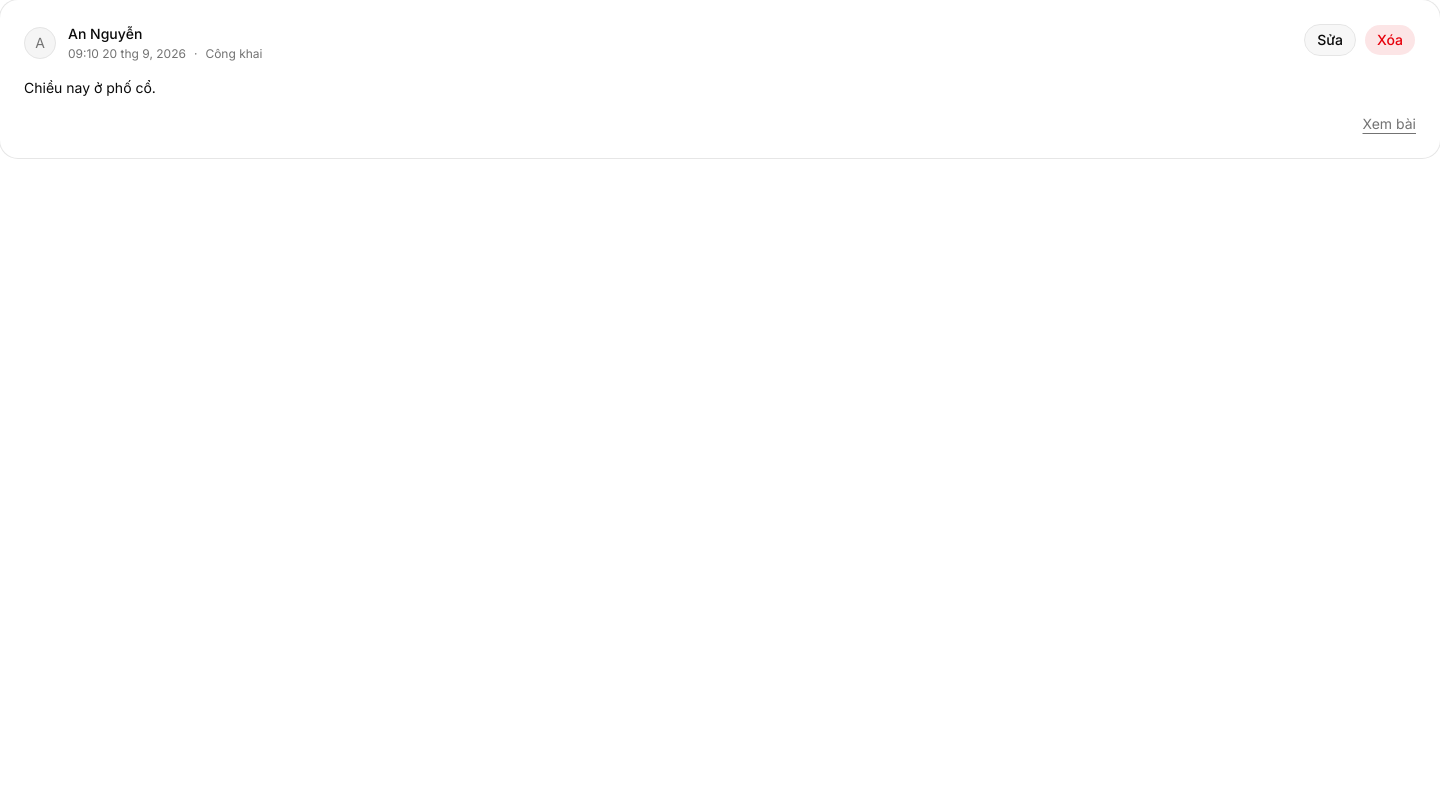
Test: PostItem — sửa bài › nút Lưu TẮT khi chưa đổi gì, bật ngay khi đổi
Click the button "Sửa" at x=1330, y=40, box [1304,24,1356,56]
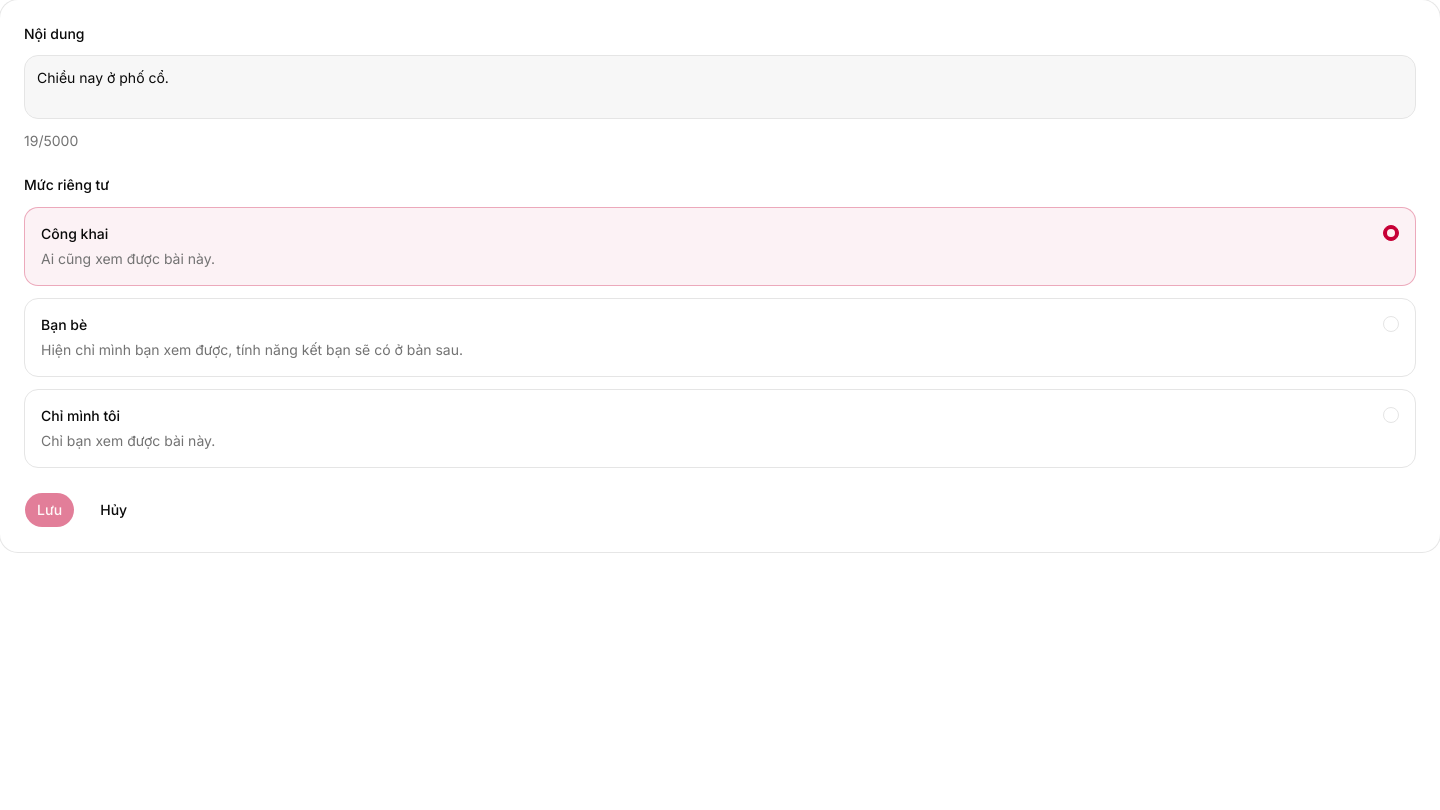
Expected: the button "Lưu" is disabled, [24,492,75,528]
Type " Mưa." into the text box labelled "Nội dung" at x=720, y=87, box [24,55,1416,119]
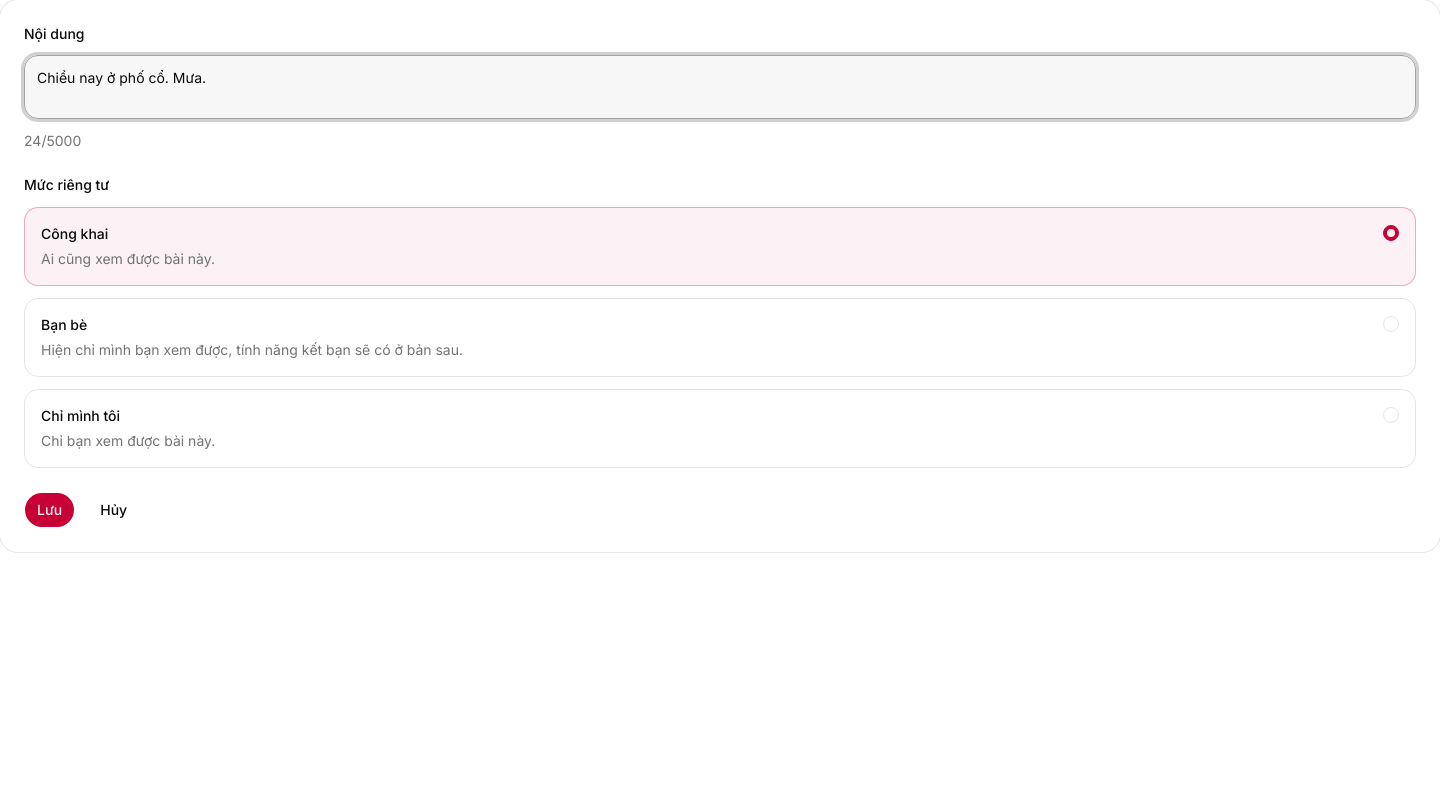
Expected: the button "Lưu" is enabled, [24,492,75,528]
